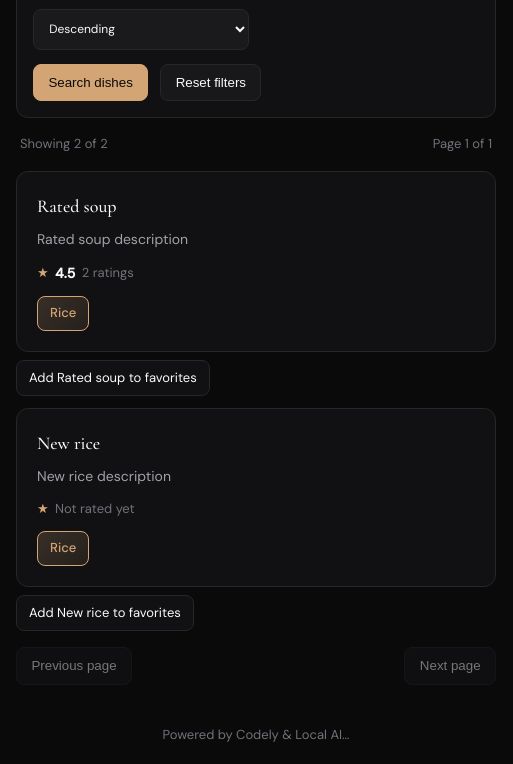
Test: Home cooked-dish search should › mark/unmark favorites, filter by favorites and show empty favorite state action
(page scrolled)
Expected: the heading "Rated soup" is shown, [37, 195, 116, 217]
Click the button "Add Rated soup to favorites": x=113, y=378 [16, 360, 210, 396]
(page scrolled)
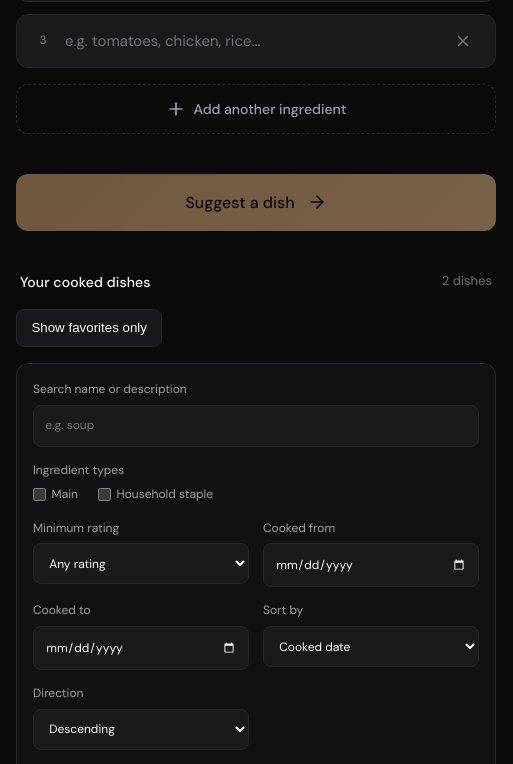
Click the button "Show favorites only": x=89, y=328 [16, 309, 162, 347]
(page scrolled)
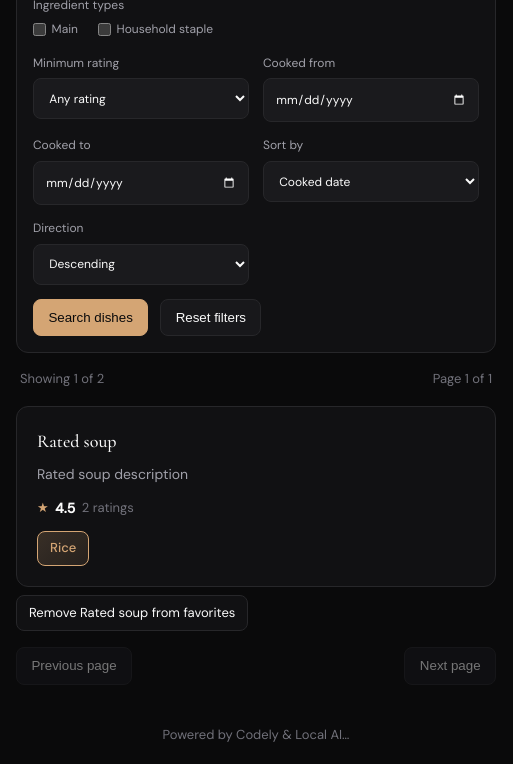
Expected: the heading "Rated soup" is shown, [37, 430, 116, 452]
Click the button "Remove Rated soup from favorites": x=132, y=613 [16, 595, 248, 631]
(page scrolled)
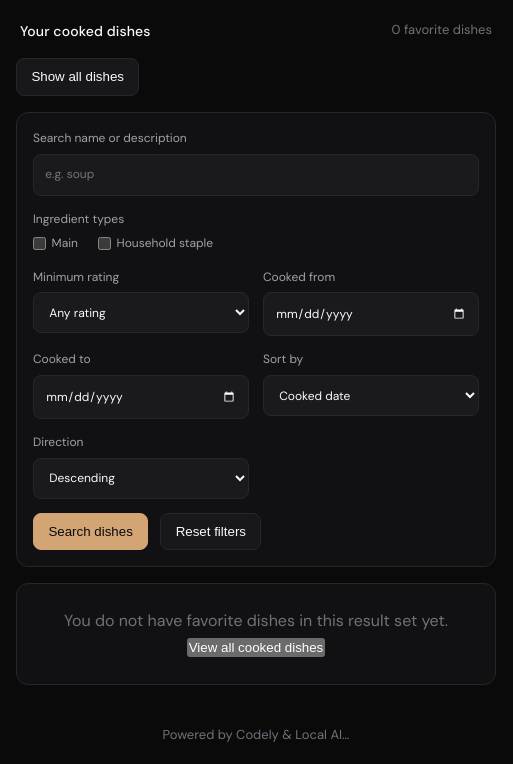
Expected: the text "You do not have favorite dishes in this result set yet." is shown, [41, 608, 471, 634]
Click the button "View all cooked dishes": x=256, y=648 [187, 638, 325, 657]
(page scrolled)
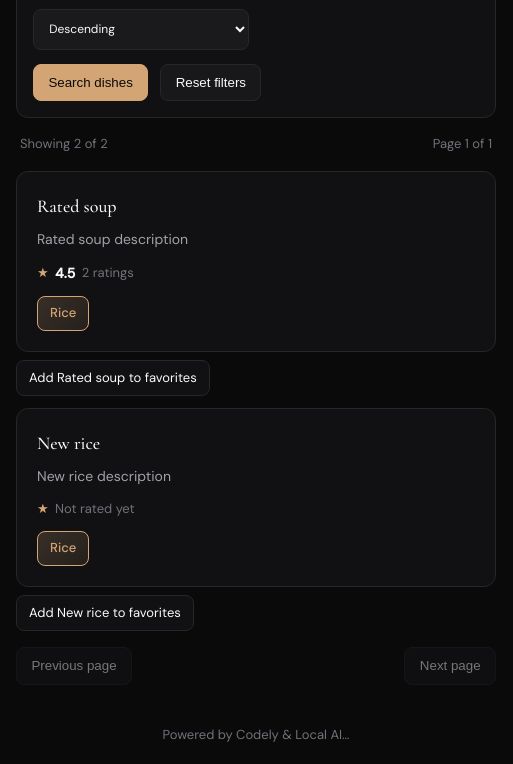
Expected: the heading "New rice" is shown, [37, 432, 100, 454]
